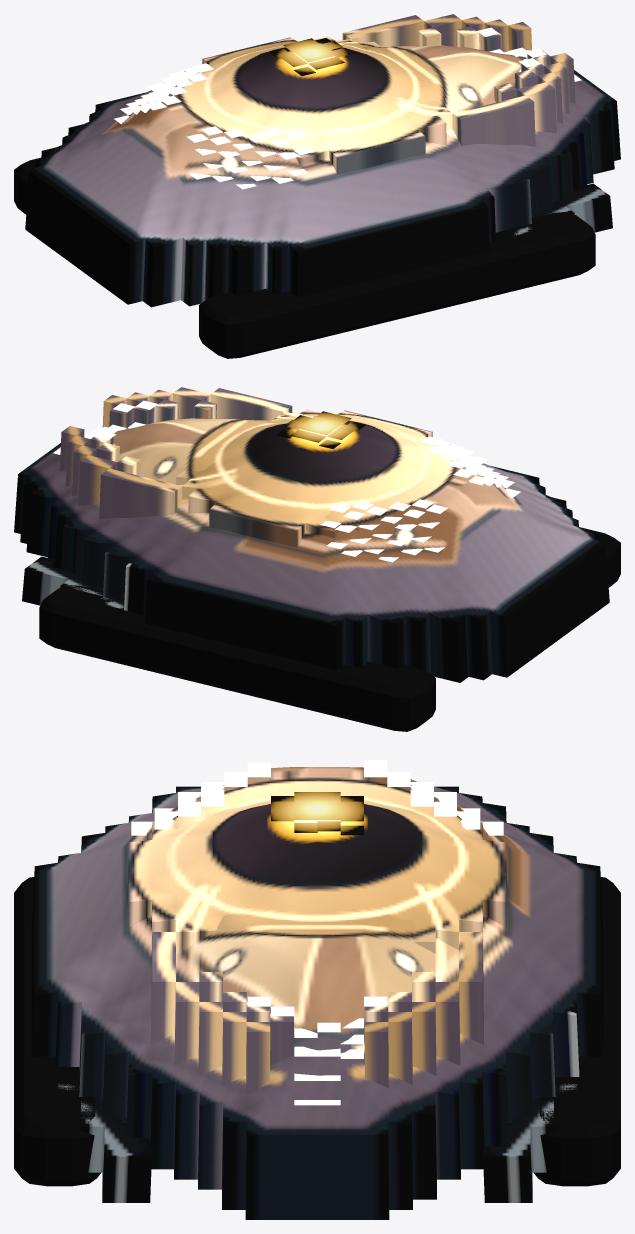
3 views of the same model, one above another, from view 1: azimuth 30°, elevation 25°; view 2: azimuth 150°, elevation 25°; view 3: azimuth 270°, elevation 25° (orthographic). The views are drawn at different scales.
Parts seen in each view (by area): view 1: chassis-heightfield, core-cradle-relief, locomotion-right, semantic-team-surfaces, underbody-layered-relief, authored-emissive-surfaces, locomotion-left; view 2: chassis-heightfield, core-cradle-relief, locomotion-left, semantic-team-surfaces, underbody-layered-relief, authored-emissive-surfaces, locomotion-right; view 3: chassis-heightfield, core-cradle-relief, locomotion-right, locomotion-left, underbody-layered-relief, semantic-team-surfaces, authored-emissive-surfaces.
Part boxes in pixels (<box>): chassis-heightfield: <box>25,45,620,307</box>; core-cradle-relief: <box>184,14,575,174</box>; locomotion-right: <box>199,212,595,358</box>; semantic-team-surfaces: <box>114,27,581,189</box>; underbody-layered-relief: <box>514,183,612,235</box>; authored-emissive-surfaces: <box>269,38,350,75</box>; locomotion-left: <box>14,157,40,214</box>; chassis-heightfield: <box>14,418,609,682</box>; core-cradle-relief: <box>59,387,450,547</box>; locomotion-left: <box>39,585,435,731</box>; semantic-team-surfaces: <box>53,400,520,562</box>; underbody-layered-relief: <box>22,556,124,608</box>; authored-emissive-surfaces: <box>275,411,365,448</box>; locomotion-right: <box>579,527,620,587</box>; chassis-heightfield: <box>31,767,603,1219</box>; core-cradle-relief: <box>128,799,506,1095</box>; locomotion-right: <box>14,877,100,1186</box>; locomotion-left: <box>534,877,620,1186</box>; underbody-layered-relief: <box>57,1083,577,1202</box>; semantic-team-surfaces: <box>131,760,503,1105</box>; authored-emissive-surfaces: <box>271,792,363,835</box>.
Bounding box in the file's own units: 0.875 × 0.297 × 0.635.
5 materials, 4 textured.
